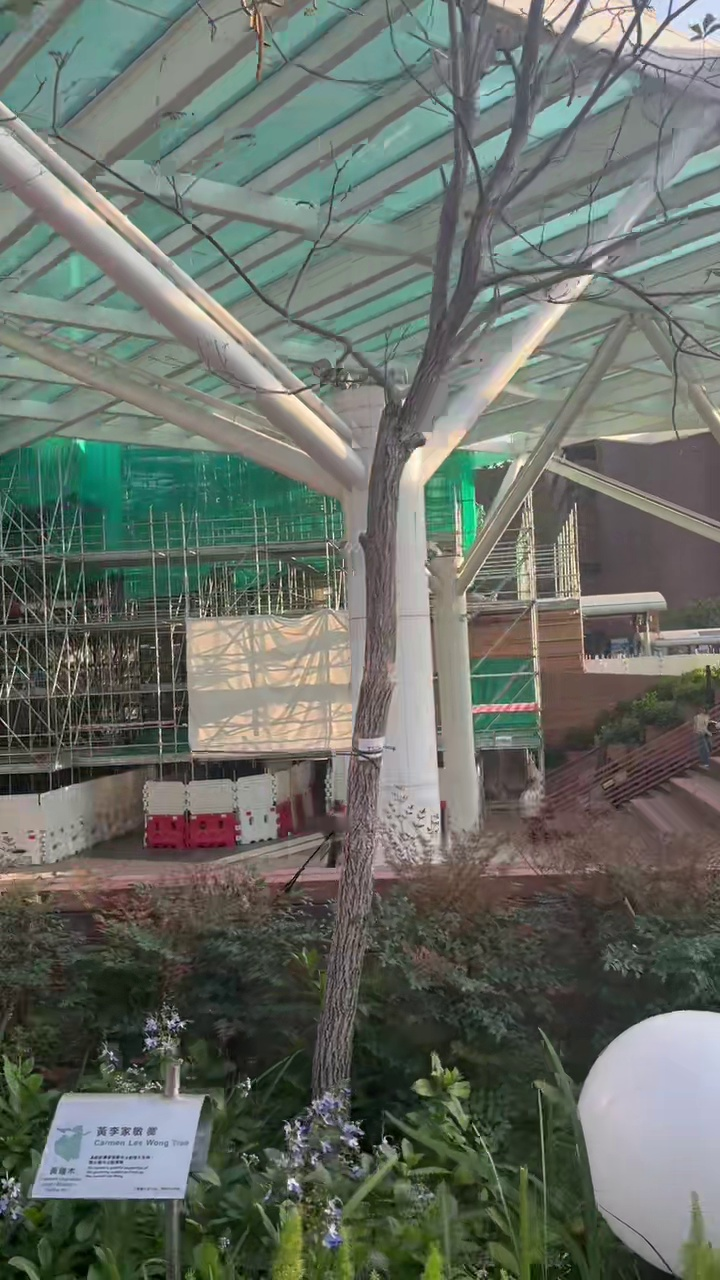Tabebuia chrysantha: (258, 0, 668, 1093)
